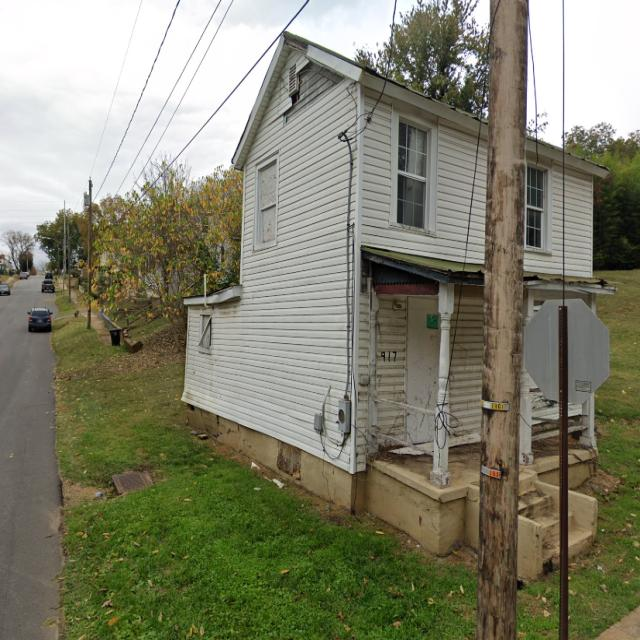House: (181, 31, 619, 582)
